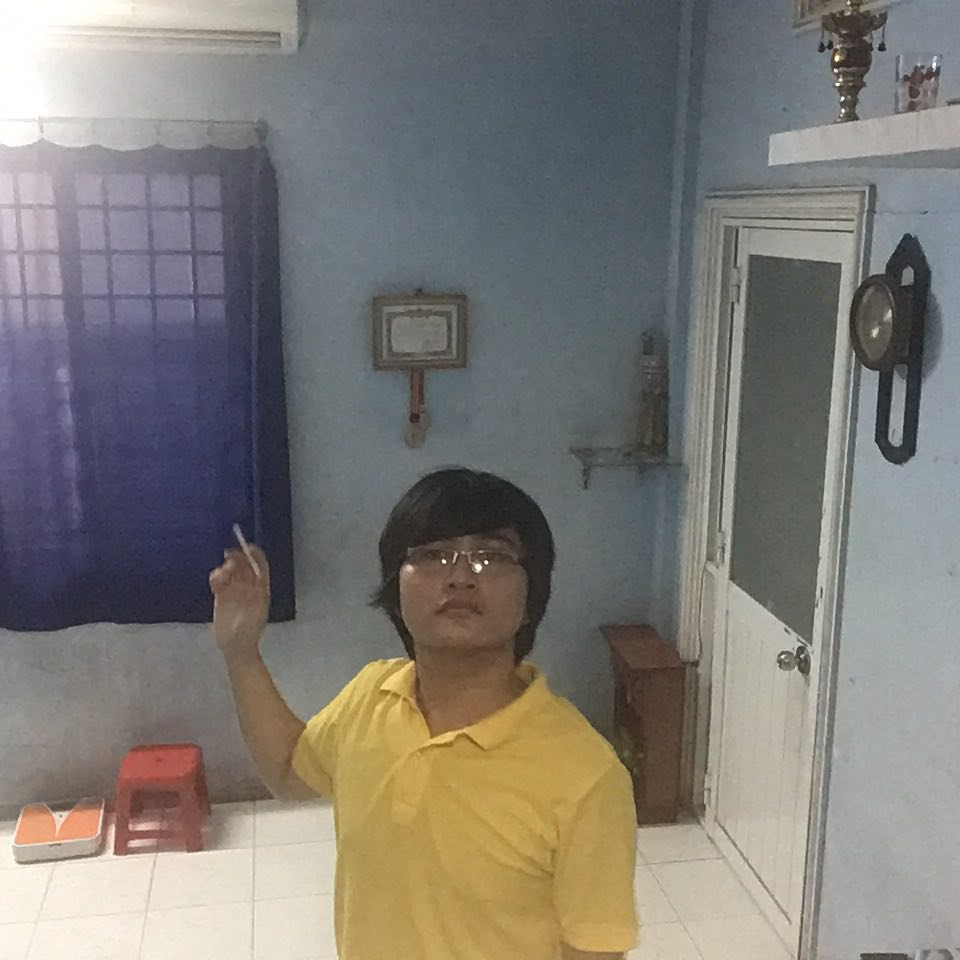cigarette: (228, 518, 249, 548)
person: (217, 458, 639, 960)
